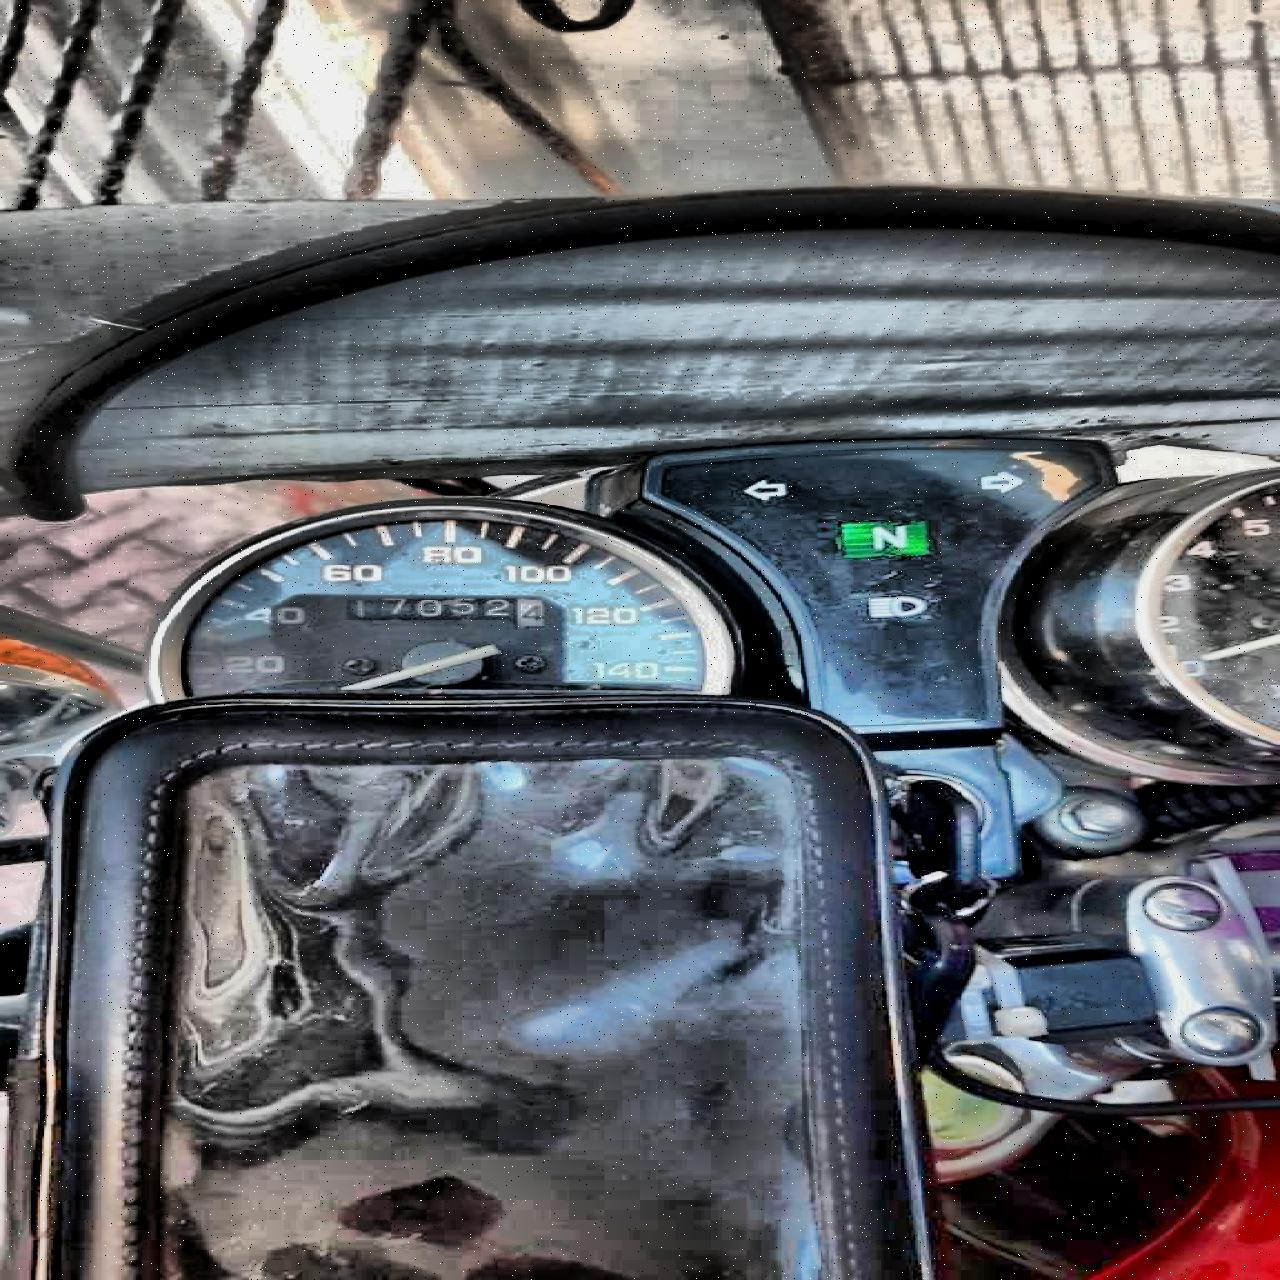0: (414, 598, 440, 614)
1: (354, 598, 365, 617)
2: (482, 598, 509, 614)
4: (520, 605, 542, 620)
5: (449, 597, 474, 614)
7: (380, 597, 404, 614)
odometer: (340, 593, 546, 628)
